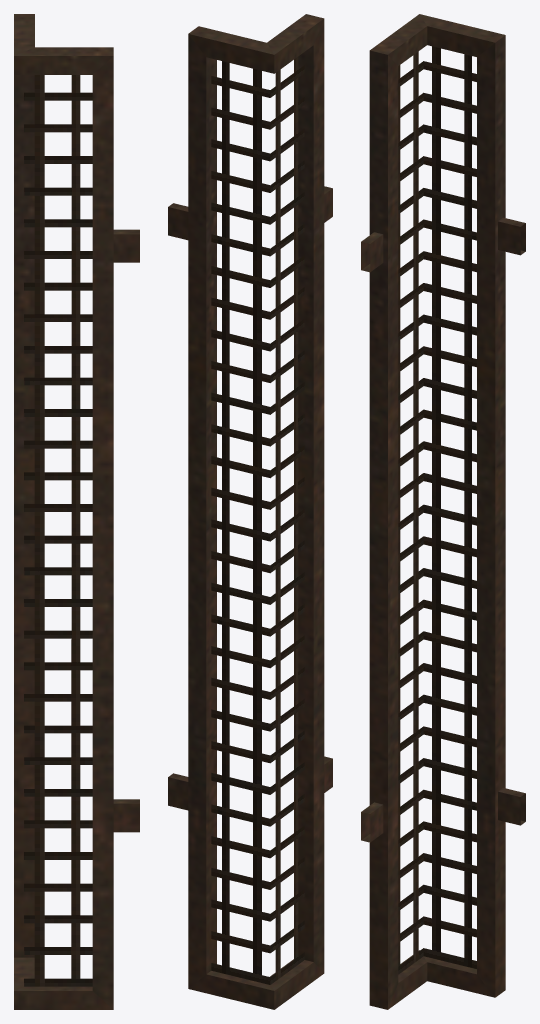
File: fence_e_pillar_1_corner.obj
3 views of the same model, side by side, from view 1: azimuth 90°, elevation 25°; view 2: azimuth 150°, elevation 25°; view 3: azimuth 330°, elevation 25° (orthographic).
Parts seen in each view (by area): view 1: fence_e_pillar_1_corner; view 2: fence_e_pillar_1_corner; view 3: fence_e_pillar_1_corner.
Boxes of the visible parts, box(x1,y1,x2,y2) form: fence_e_pillar_1_corner: box(14, 14, 139, 1009); fence_e_pillar_1_corner: box(168, 14, 332, 1009); fence_e_pillar_1_corner: box(361, 14, 525, 1009).
Bounding box in the file's own units: 0.24 × 2.01 × 0.24.
